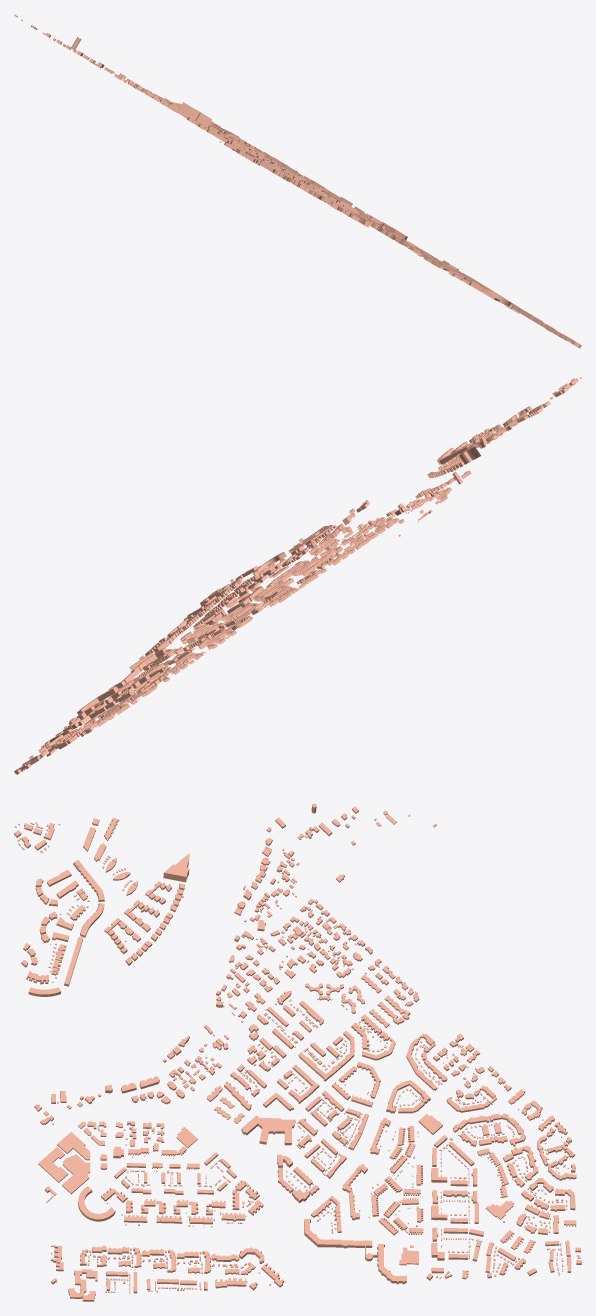
3 views of the same model, one above another, from view 1: azimuth 30°, elevation 25°; view 2: azimuth 150°, elevation 25°; view 3: azimuth 270°, elevation 25° (orthographic). The views are drawn at different scales.
Size of the model in its own units: 1020 by 781 by 1281.
